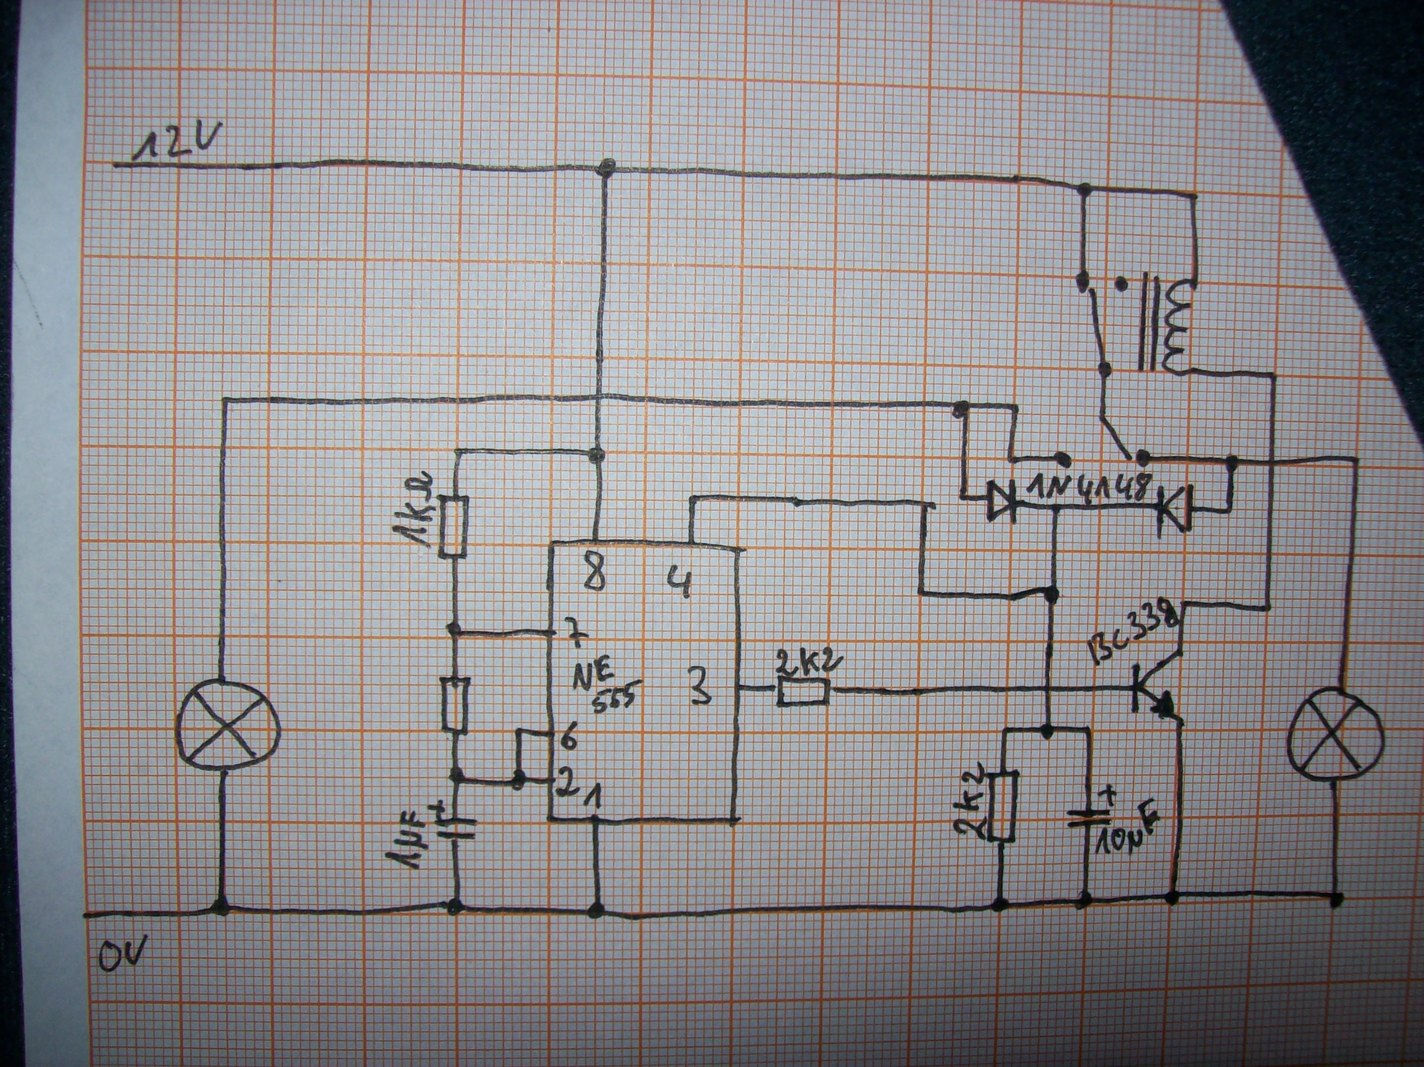capacitor.polarized: (1065, 782, 1118, 829), (427, 798, 480, 843)
crossover: (587, 386, 609, 407), (1263, 455, 1282, 473), (1041, 683, 1055, 696)
diode: (1154, 482, 1197, 541), (984, 475, 1020, 526)
integrated_cricuit.ne555: (545, 536, 747, 832)
junction: (586, 442, 607, 467), (950, 398, 972, 421), (208, 897, 232, 919), (1042, 583, 1062, 607), (597, 156, 617, 180), (443, 619, 464, 641), (585, 900, 606, 922), (447, 439, 468, 462), (445, 894, 465, 918), (509, 768, 528, 792), (1074, 889, 1092, 913), (448, 764, 468, 786), (1222, 452, 1242, 473), (683, 491, 702, 512), (916, 497, 939, 514), (1327, 889, 1344, 911), (1076, 180, 1093, 200), (1163, 888, 1181, 907), (992, 896, 1009, 915), (1347, 451, 1365, 468), (1259, 599, 1276, 618), (1184, 189, 1202, 206), (1220, 501, 1237, 519), (1040, 723, 1055, 741), (1008, 399, 1025, 415), (956, 490, 972, 505), (1048, 500, 1063, 516), (914, 585, 929, 602), (1005, 452, 1020, 468), (1266, 368, 1281, 383), (1082, 723, 1097, 737), (513, 725, 527, 739), (218, 393, 232, 407), (1178, 597, 1191, 611), (999, 725, 1011, 737)
lamp: (173, 675, 283, 773), (1284, 683, 1387, 783)
relay: (1074, 269, 1202, 380)
resistor: (986, 769, 1021, 847), (435, 491, 472, 563), (769, 675, 836, 709), (437, 672, 472, 739)
switch: (1054, 414, 1151, 470)
terminal: (106, 154, 125, 174), (77, 907, 94, 925)
text: (1086, 596, 1179, 665), (571, 653, 645, 714), (1025, 472, 1153, 504), (131, 119, 223, 163), (1095, 798, 1161, 856), (390, 468, 437, 550), (951, 761, 988, 843), (383, 809, 430, 871), (774, 644, 845, 677), (97, 933, 151, 974), (686, 664, 713, 708), (581, 549, 607, 594), (562, 614, 592, 650), (666, 563, 694, 600), (555, 766, 580, 797), (560, 720, 580, 752), (581, 782, 604, 811)
transistor: (1129, 649, 1190, 724)
